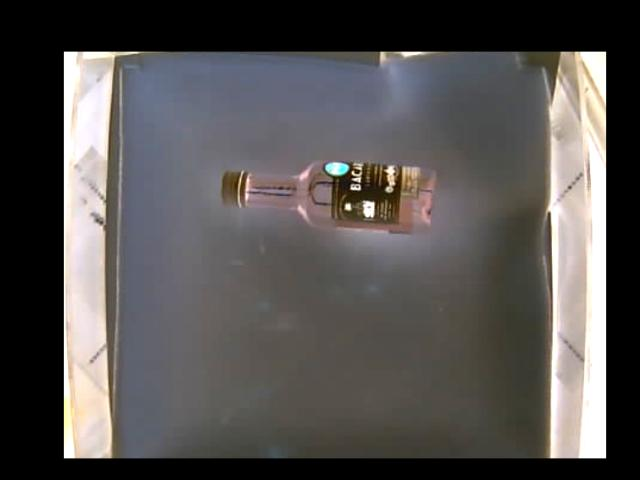Bottle: (219, 160, 435, 236)
